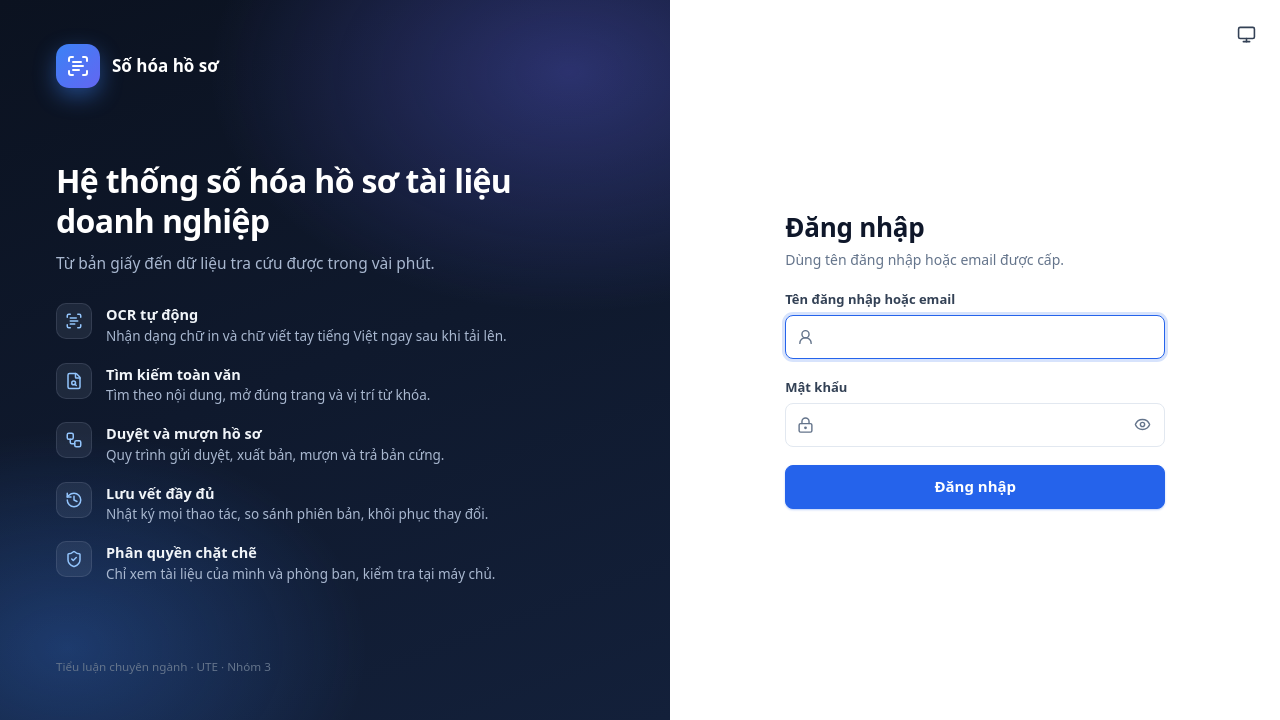
Router + session (SDD mục 13, 15) › chưa đăng nhập: chuyển về /login; đăng nhập xong quay lại route dự định
Type "officer" into the field labelled "Tên đăng nhập hoặc email" at point(975, 337), box [785, 315, 1165, 359]
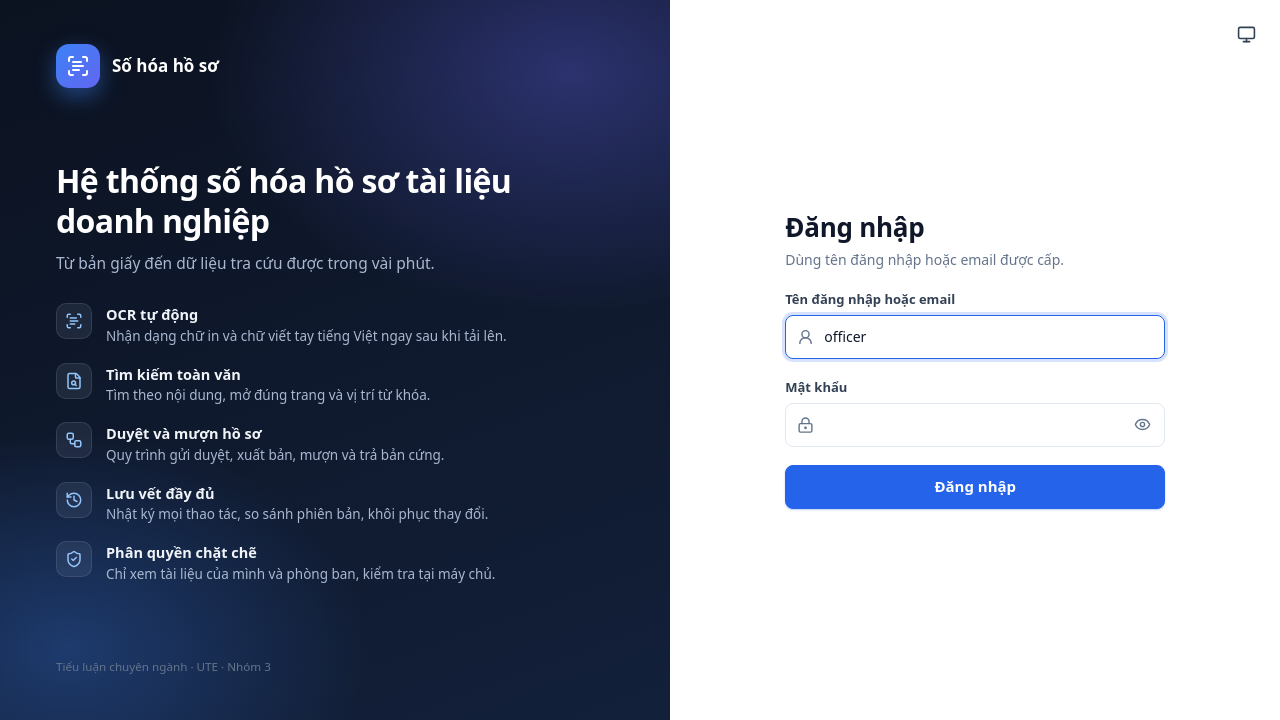
Type "secret" into the password field labelled "Mật khẩu" at point(975, 425), box [785, 403, 1165, 447]
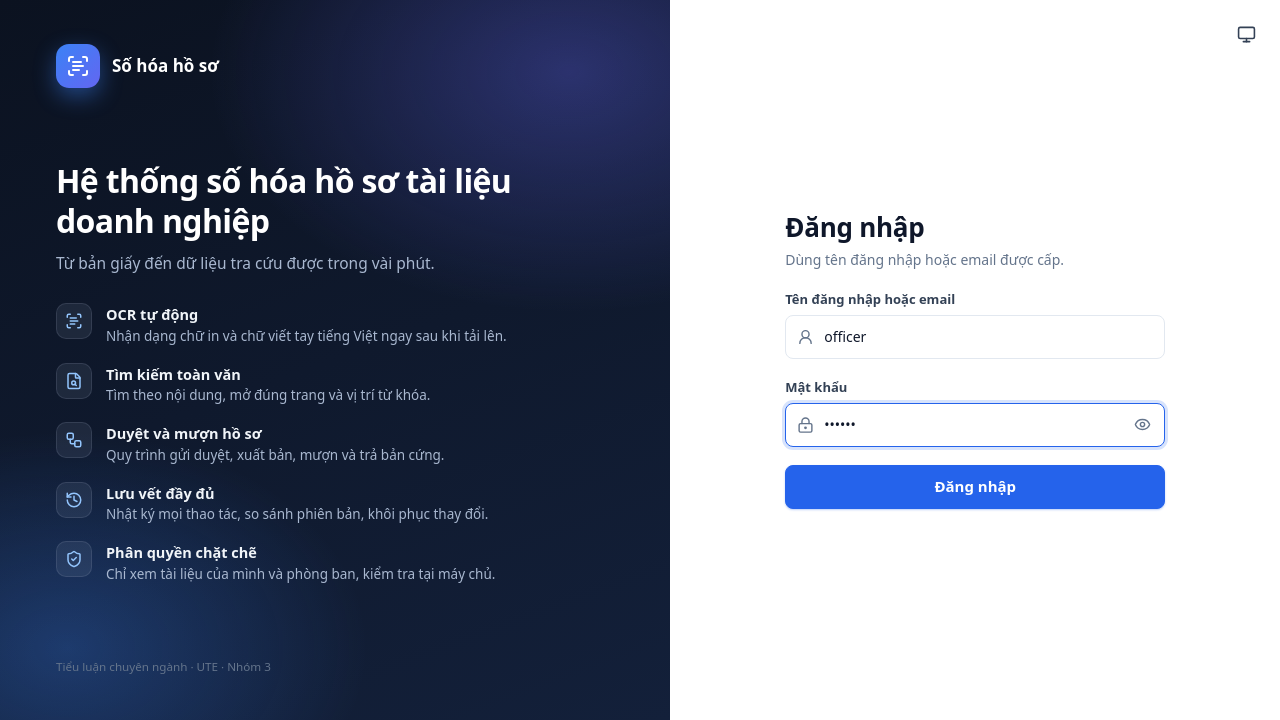
Click the button "Đăng nhập" at point(975, 487), box [785, 465, 1165, 509]
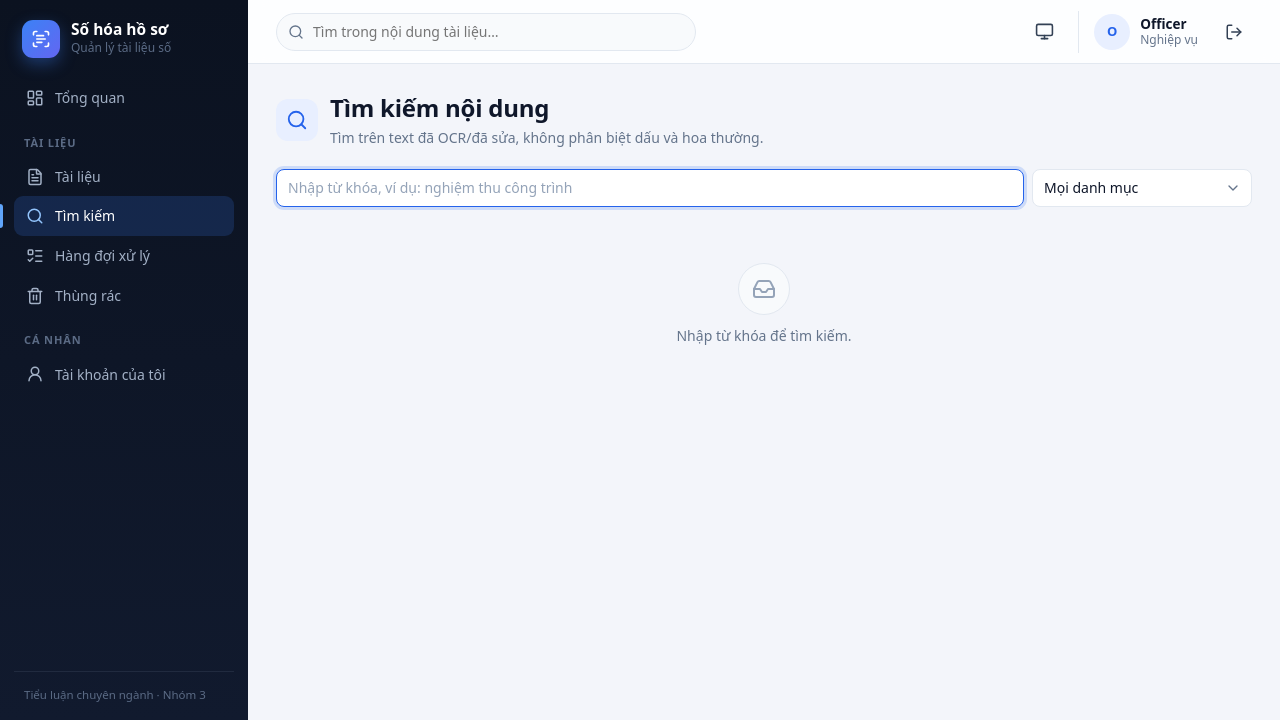
Now the heading "Tìm kiếm nội dung" is shown, box [330, 91, 549, 124]
